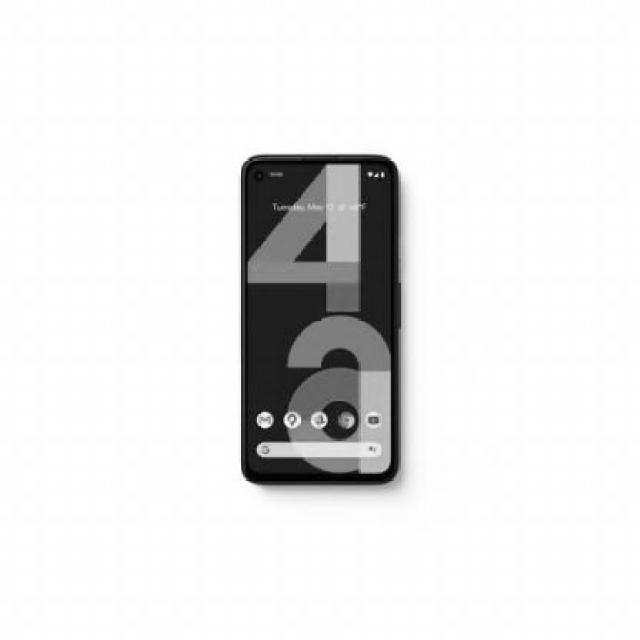fake: (234, 148, 408, 482)
